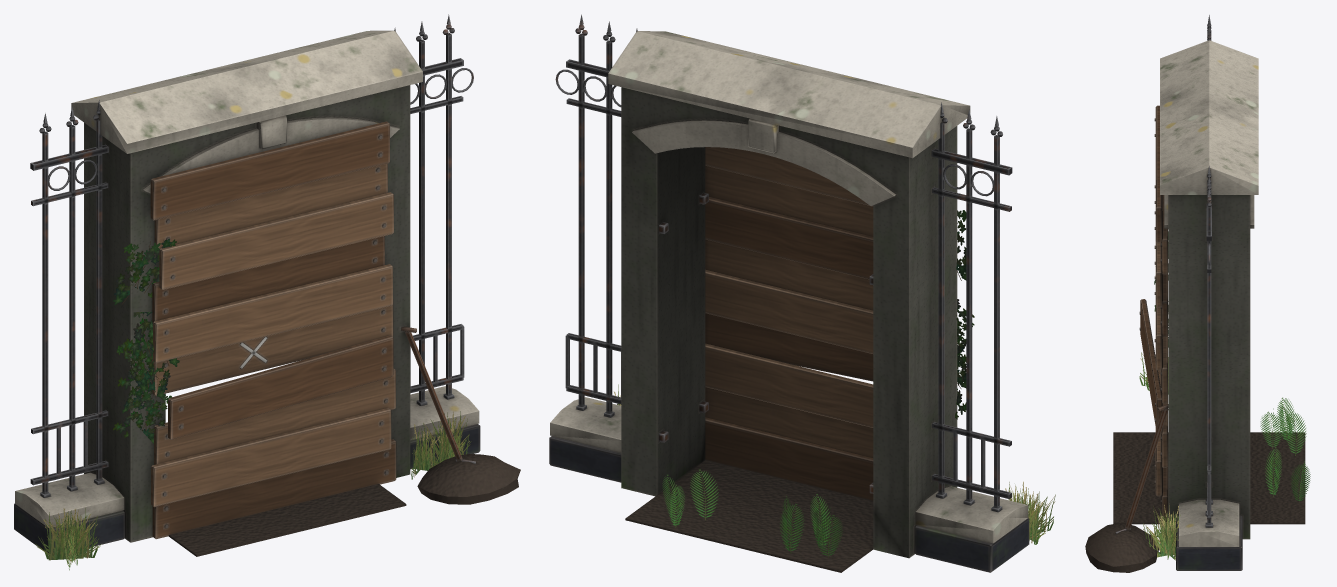
The model's file is SneakCulvert.fbx.
3 renders of one model, left to right at view 1: azimuth 30°, elevation 25°; view 2: azimuth 150°, elevation 25°; view 3: azimuth 270°, elevation 25°, orthographic. The views are drawn at different scales.
Visible parts, largest first — view 1: SneakCulvert_Main, SneakCulvert_Board1, SneakCulvert_Board9, SneakCulvert_Board5, SneakCulvert_Board7, SneakCulvert_Board3, SneakCulvert_Leaves, SneakCulvert_Board0, SneakCulvert_Board4, SneakCulvert_Board6, SneakCulvert_Board8, SneakCulvert_Board2; view 2: SneakCulvert_Main, SneakCulvert_Board2, SneakCulvert_Board4, SneakCulvert_Board6, SneakCulvert_Board0, SneakCulvert_Leaves, SneakCulvert_Board7, SneakCulvert_Board5, SneakCulvert_Board1, SneakCulvert_Board3, SneakCulvert_Board8; view 3: SneakCulvert_Main, SneakCulvert_Leaves, SneakCulvert_Board3, SneakCulvert_Board9, SneakCulvert_Board7, SneakCulvert_Board5, SneakCulvert_Board1, SneakCulvert_Board4, SneakCulvert_Board8, SneakCulvert_Board6, SneakCulvert_Board0, SneakCulvert_Board2.
Part boxes in pixels (box(x1,y1,x2,y2)): SneakCulvert_Main: box(14, 14, 520, 556); SneakCulvert_Board1: box(151, 408, 391, 506); SneakCulvert_Board9: box(150, 121, 389, 220); SneakCulvert_Board5: box(153, 264, 392, 363); SneakCulvert_Board7: box(159, 192, 393, 289); SneakCulvert_Board3: box(168, 335, 393, 439); SneakCulvert_Leaves: box(35, 238, 471, 570); SneakCulvert_Board0: box(152, 439, 396, 539); SneakCulvert_Board4: box(152, 299, 393, 395); SneakCulvert_Board6: box(152, 236, 384, 322); SneakCulvert_Board8: box(154, 163, 387, 248); SneakCulvert_Board2: box(154, 368, 395, 464); SneakCulvert_Main: box(549, 14, 1029, 572); SneakCulvert_Board2: box(705, 343, 873, 427); SneakCulvert_Board4: box(705, 269, 873, 353); SneakCulvert_Board6: box(705, 197, 873, 279); SneakCulvert_Board0: box(705, 417, 873, 500); SneakCulvert_Leaves: box(614, 210, 1055, 557); SneakCulvert_Board7: box(705, 165, 873, 236); SneakCulvert_Board5: box(705, 239, 873, 310); SneakCulvert_Board1: box(705, 387, 873, 457); SneakCulvert_Board3: box(705, 313, 873, 381); SneakCulvert_Board8: box(705, 147, 873, 206); SneakCulvert_Main: box(1085, 15, 1305, 572); SneakCulvert_Leaves: box(1139, 231, 1310, 560); SneakCulvert_Board3: box(1139, 299, 1162, 433); SneakCulvert_Board9: box(1154, 105, 1161, 242); SneakCulvert_Board7: box(1154, 185, 1161, 307); SneakCulvert_Board5: box(1154, 245, 1161, 370); SneakCulvert_Board1: box(1154, 369, 1161, 496); SneakCulvert_Board4: box(1160, 336, 1167, 403); SneakCulvert_Board8: box(1160, 195, 1167, 274); SneakCulvert_Board6: box(1160, 274, 1167, 336); SneakCulvert_Board0: box(1160, 467, 1167, 523); SneakCulvert_Board2: box(1160, 402, 1167, 467).
Bounding box in the file's own units: 853 × 761 × 433.
